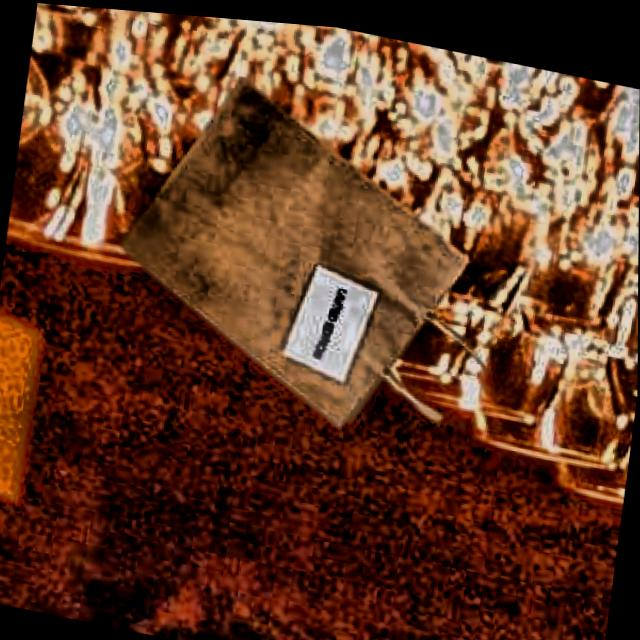Paper-bag: (93, 57, 530, 475)
